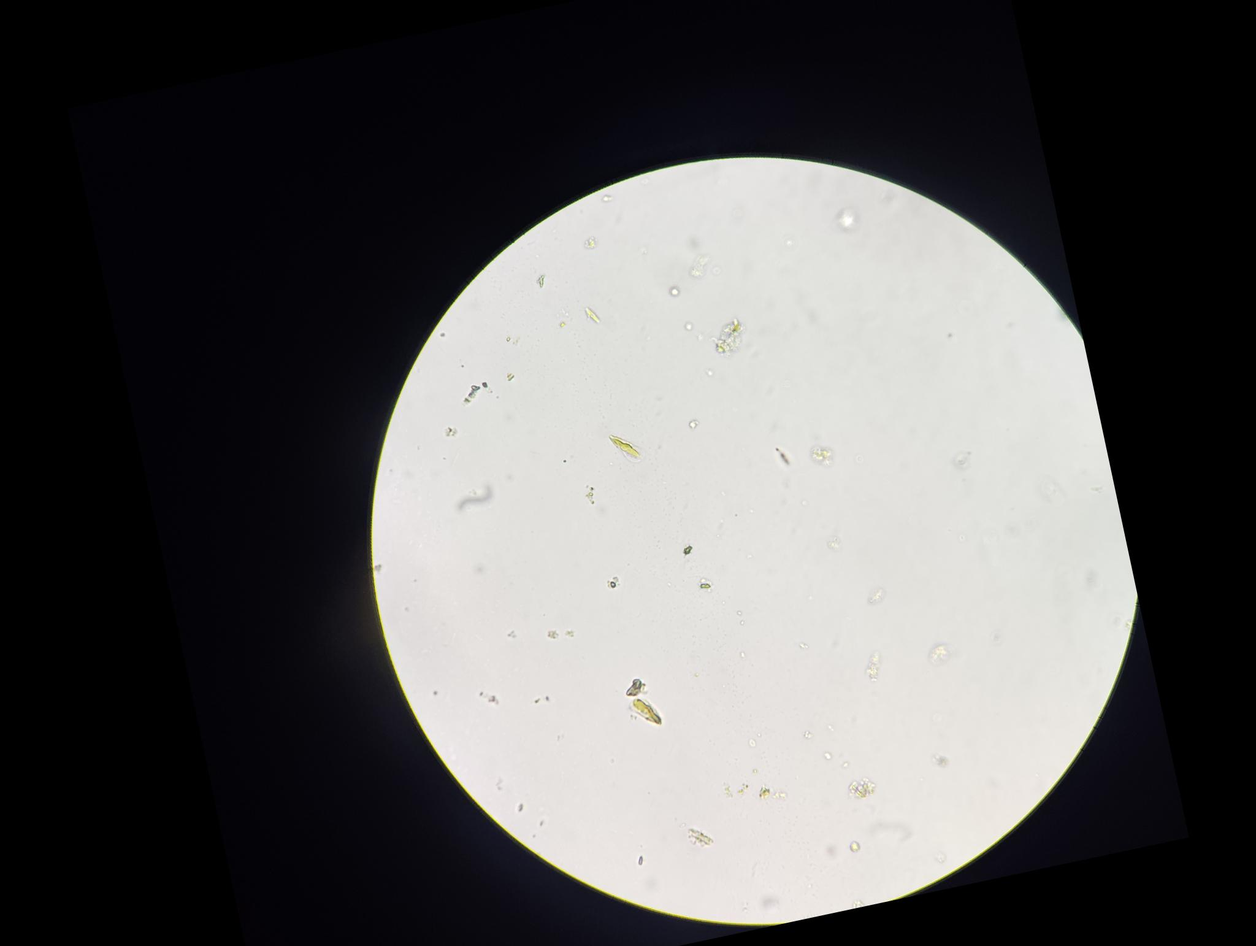Euglena: (604, 425, 656, 475), (621, 687, 670, 736)
